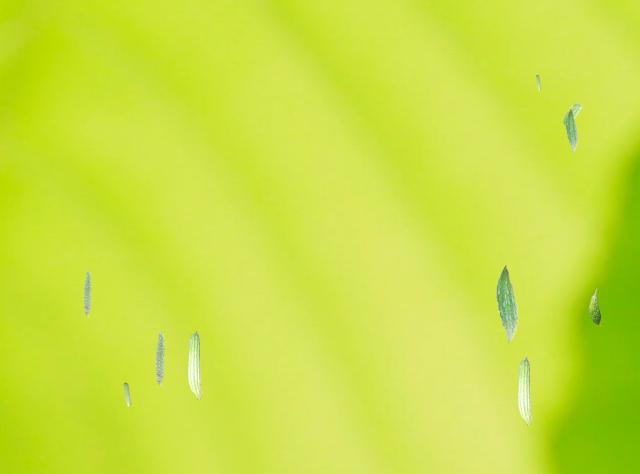ampalaya: (496, 264, 518, 343), (517, 356, 532, 426), (187, 330, 202, 400), (154, 331, 165, 386), (565, 108, 578, 153), (588, 288, 601, 325), (82, 270, 92, 317), (563, 103, 582, 124), (123, 382, 131, 406), (535, 74, 541, 90)
